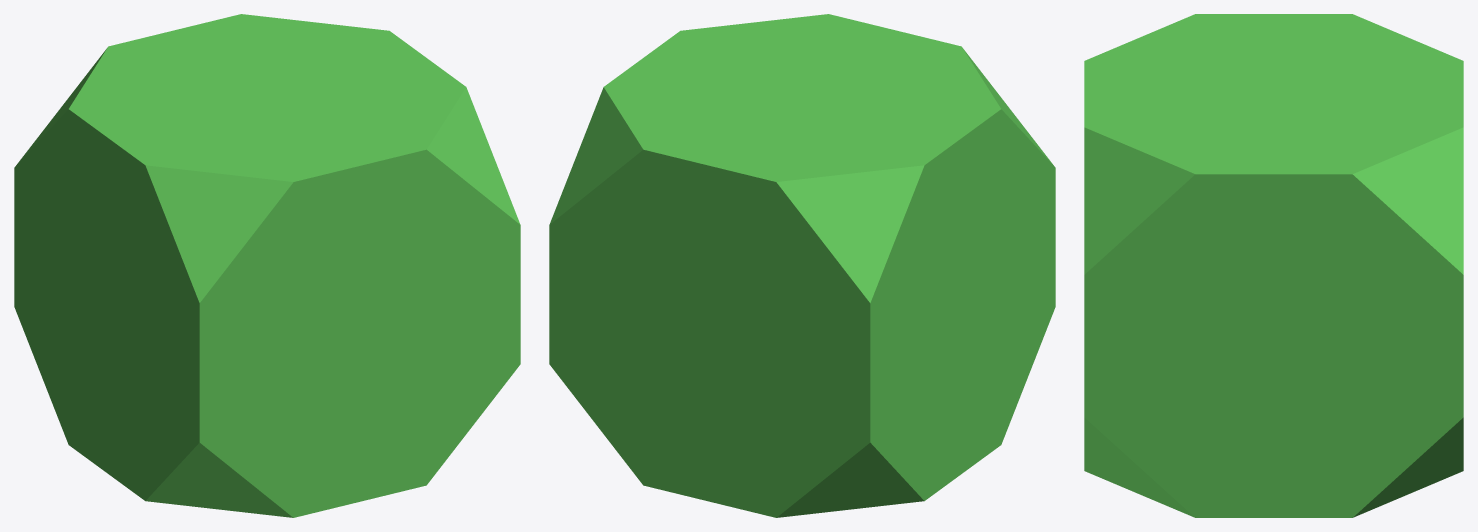
The model's file is fractaltruncatedcube0.glb.
3 views of the same model, side by side, from view 1: azimuth 30°, elevation 25°; view 2: azimuth 150°, elevation 25°; view 3: azimuth 270°, elevation 25° (orthographic). The views are drawn at different scales.
Bounding box in the file's own units: 8.43 × 8.43 × 8.43.
